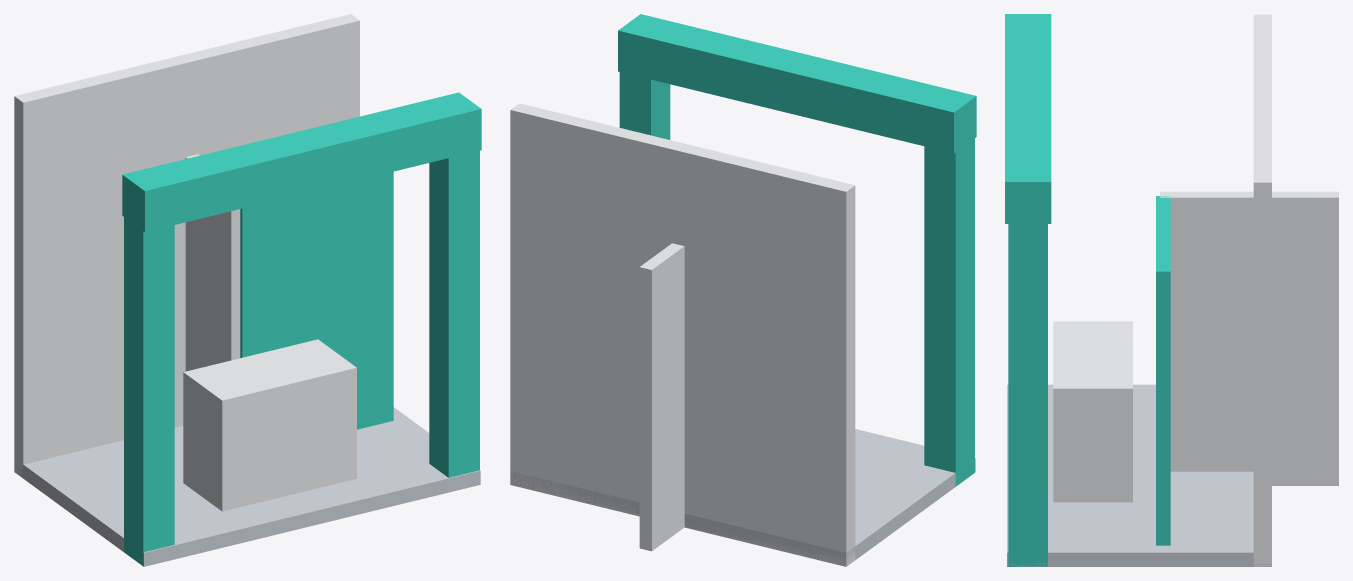
3 renders of one model, left to right at view 1: azimuth 30°, elevation 25°; view 2: azimuth 150°, elevation 25°; view 3: azimuth 270°, elevation 25°, orthographic. The views are drawn at different scales.
Visible parts, largest first — view 1: Exhibition Booth Concept; view 2: Exhibition Booth Concept; view 3: Exhibition Booth Concept.
Part boxes in pixels (x1,y1,x2,y2): Exhibition Booth Concept: (14, 14, 481, 566); Exhibition Booth Concept: (510, 14, 976, 566); Exhibition Booth Concept: (1005, 14, 1338, 566).
Size of the model in its own units: 3 by 3.2 by 2.52.
